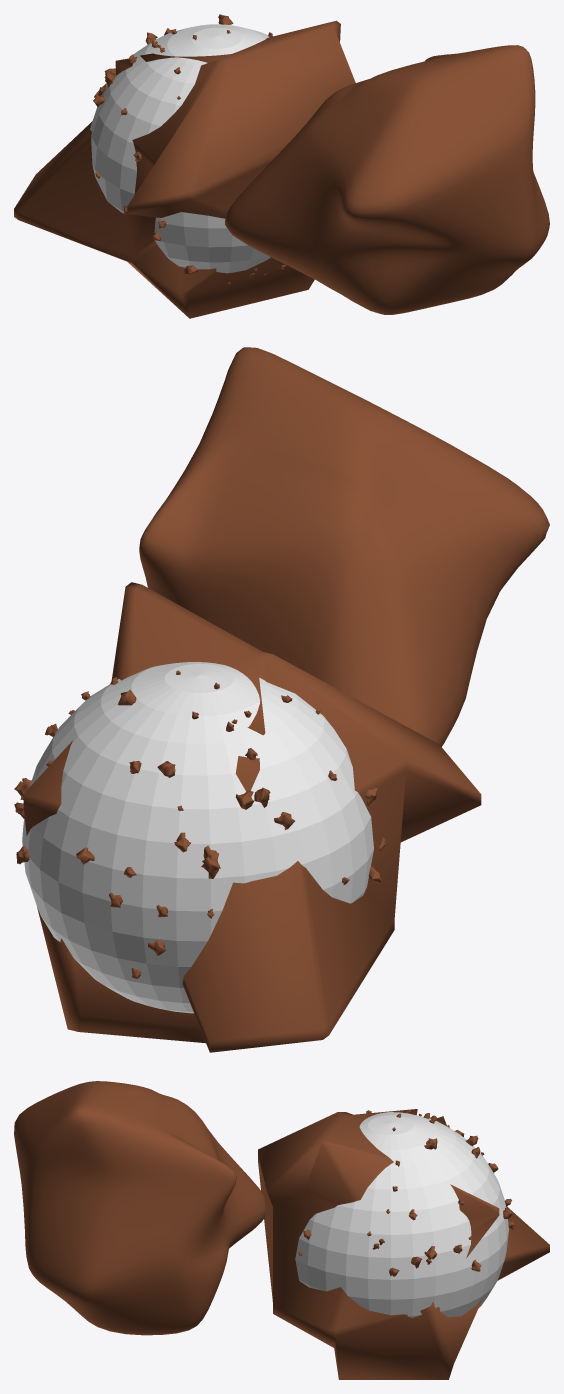
Rendered from chocolate_chips.glb.
3 renders of one model, top to bottom at view 1: azimuth 30°, elevation 25°; view 2: azimuth 150°, elevation 25°; view 3: azimuth 270°, elevation 25°, orthographic. The views are drawn at different scales.
Parts seen in each view (by area): view 1: Cube, Cube - copy, Sphere; view 2: Cube, Sphere, Cube - copy; view 3: Cube, Sphere, Cube - copy.
Part boxes in pixels (x1=…): Cube: x1=225, y1=45, x2=549, y2=314; Cube - copy: x1=14, y1=20, x2=355, y2=318; Sphere: x1=90, y1=24, x2=270, y2=273; Cube: x1=139, y1=347, x2=549, y2=746; Sphere: x1=22, y1=662, x2=373, y2=1013; Cube - copy: x1=23, y1=582, x2=481, y2=1052; Cube: x1=14, y1=1081, x2=265, y2=1335; Sphere: x1=295, y1=1112, x2=508, y2=1318; Cube - copy: x1=258, y1=1109, x2=549, y2=1379.
Bounding box in the file's own units: 2.81 × 2.83 × 4.54.
